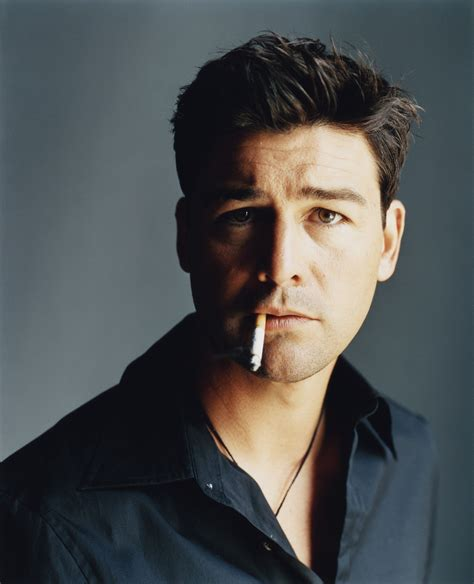cigarette: (249, 312, 265, 372)
